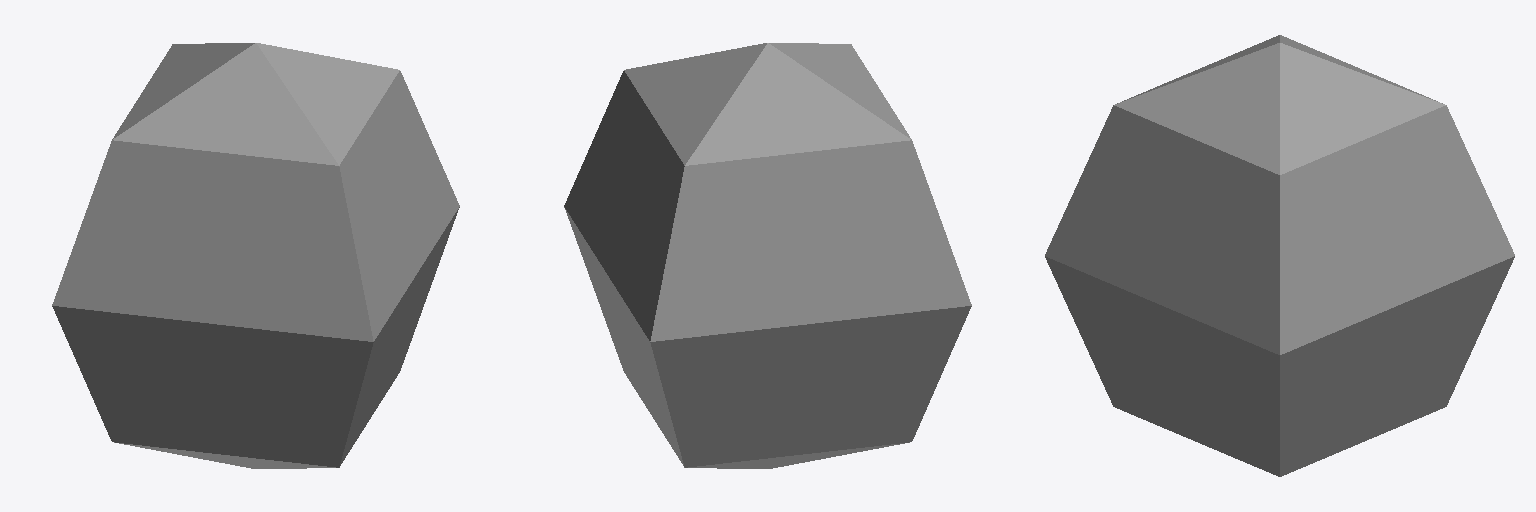
File: stone.obj
3 views of the same model, side by side, from view 1: azimuth 30°, elevation 25°; view 2: azimuth 150°, elevation 25°; view 3: azimuth 270°, elevation 25° (orthographic).
Visible parts, largest first — view 1: Sphere_Sphere.002; view 2: Sphere_Sphere.002; view 3: Sphere_Sphere.002.
Part boxes in pixels (x1,y1,x2,y2): Sphere_Sphere.002: (52,43,459,468); Sphere_Sphere.002: (564,43,971,468); Sphere_Sphere.002: (1045,35,1514,476).
Size of the model in its own units: 2 by 2 by 2.